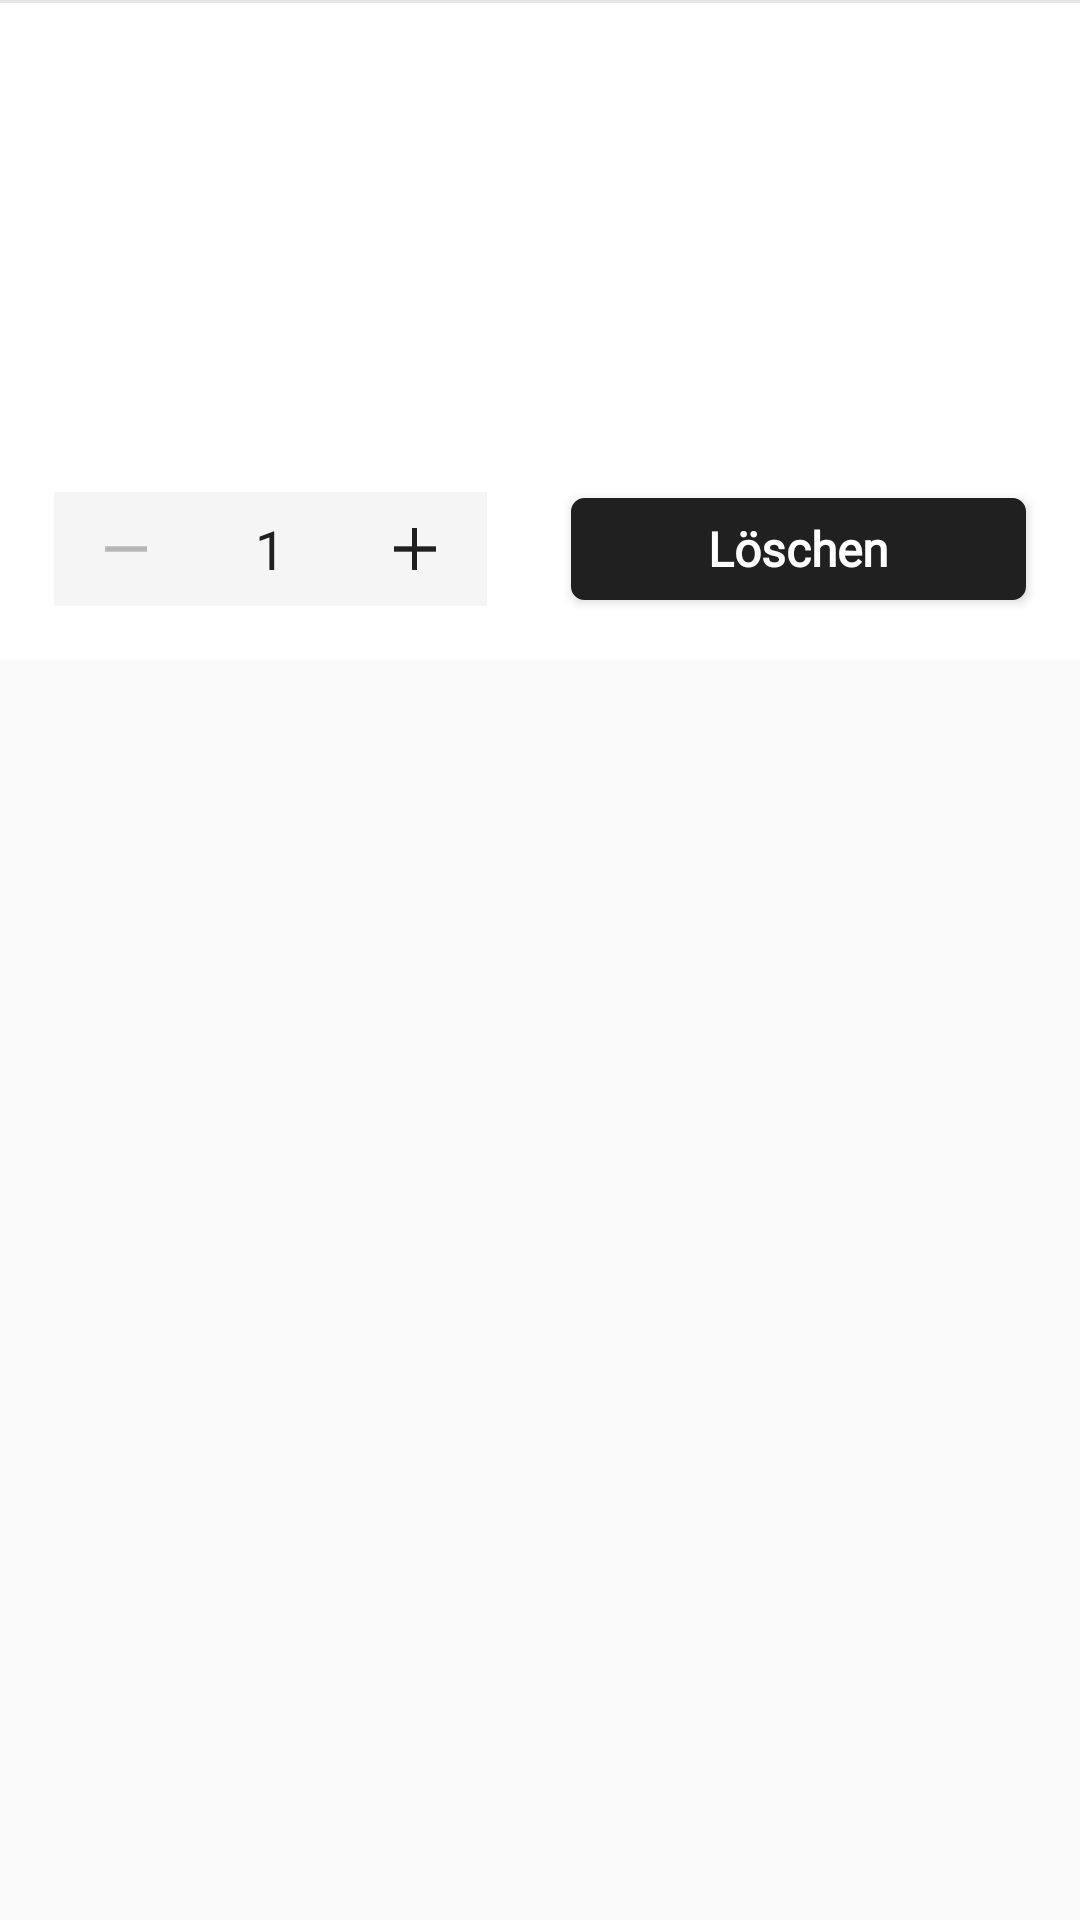

Where icons sit on this 1080 × 1920 app screen, as detection(x1, y1, x2, y2):
plus: detection(342, 492, 487, 606)
